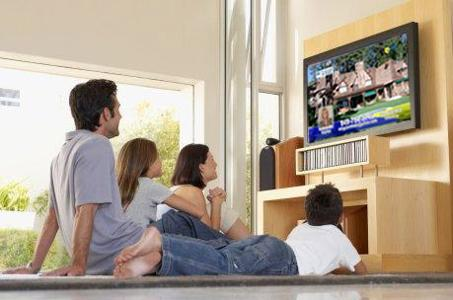person: (2, 79, 229, 277)
